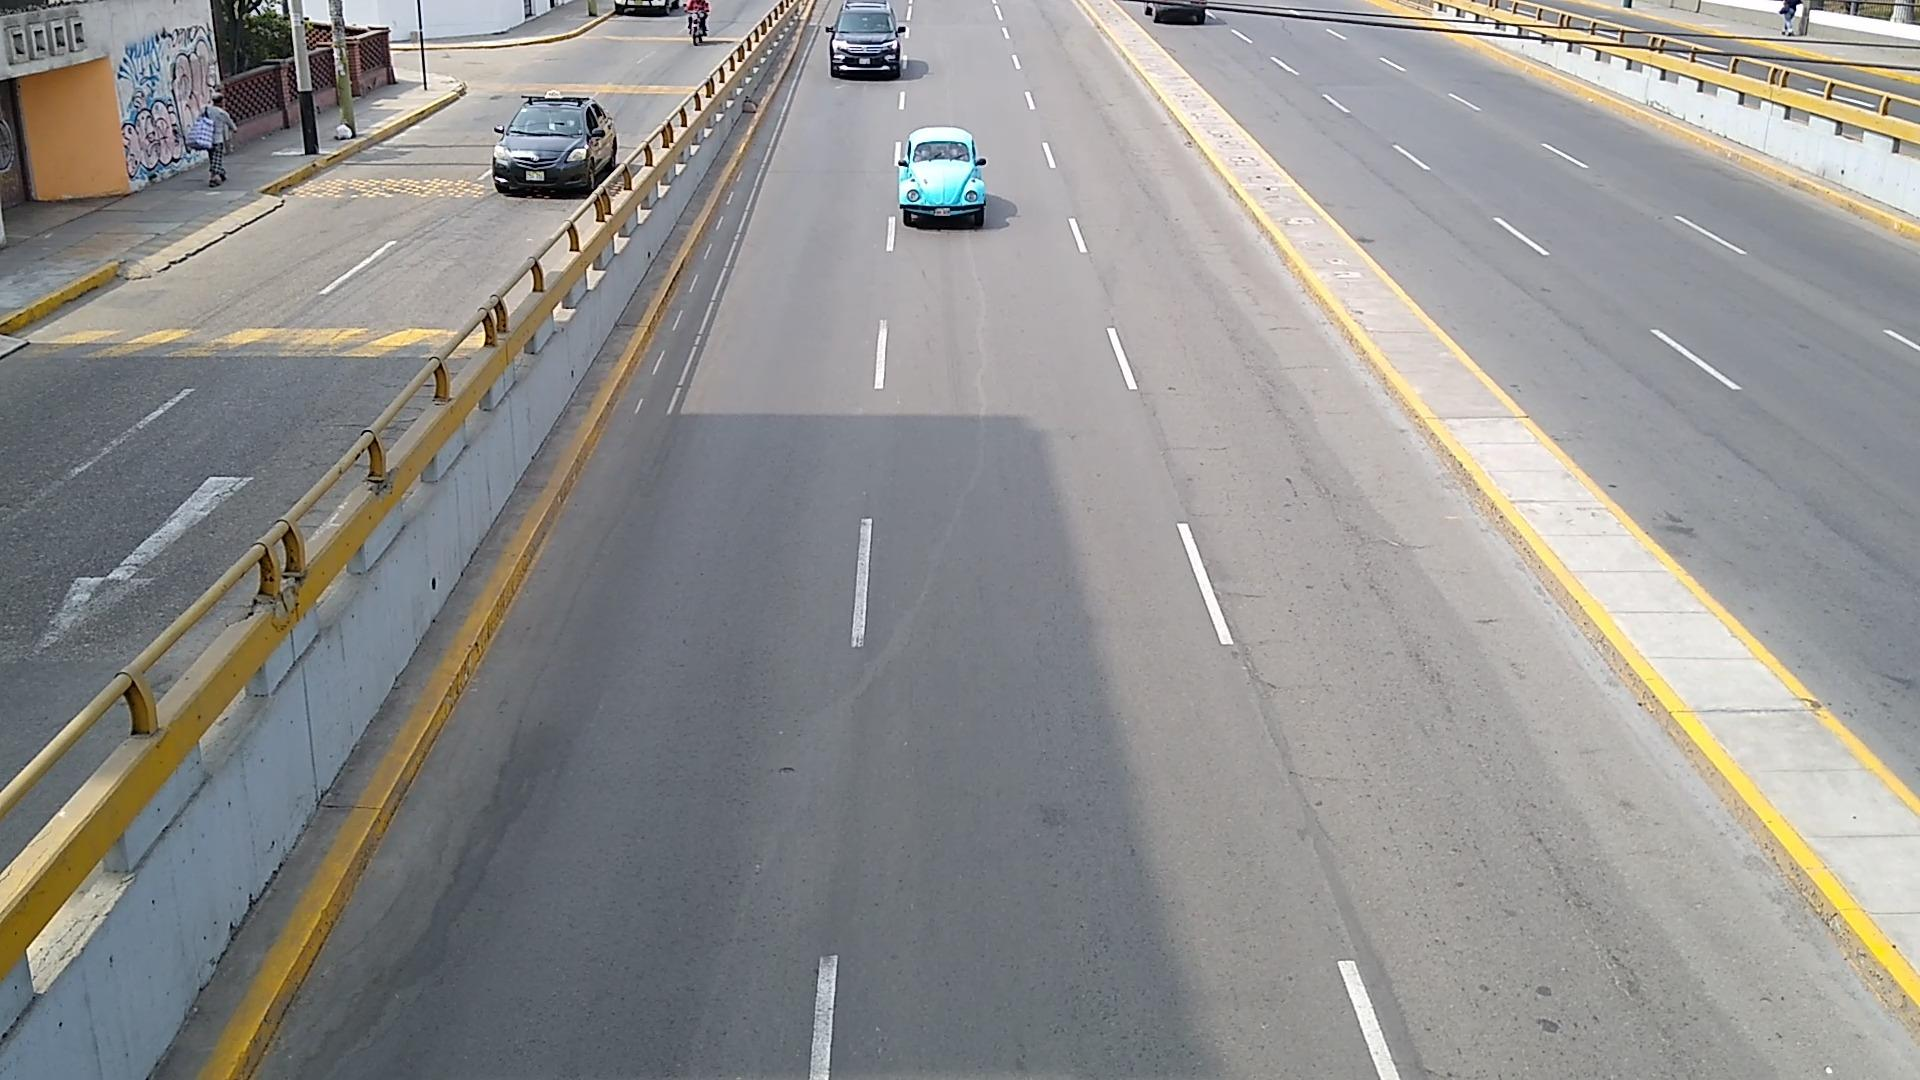car: (491, 94, 619, 191), (896, 128, 986, 229), (829, 0, 904, 75), (1144, 0, 1208, 24)
motorcyclist: (686, 0, 709, 45)
